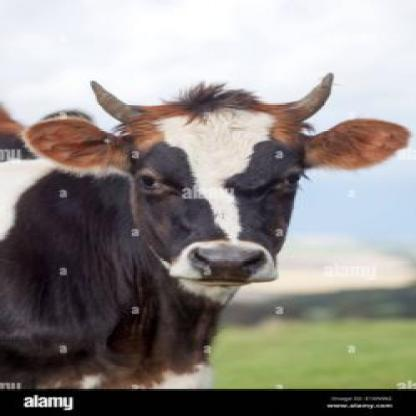lower: (215, 279, 230, 291)
mouth: (170, 245, 278, 301)
upper: (216, 256, 237, 270)
